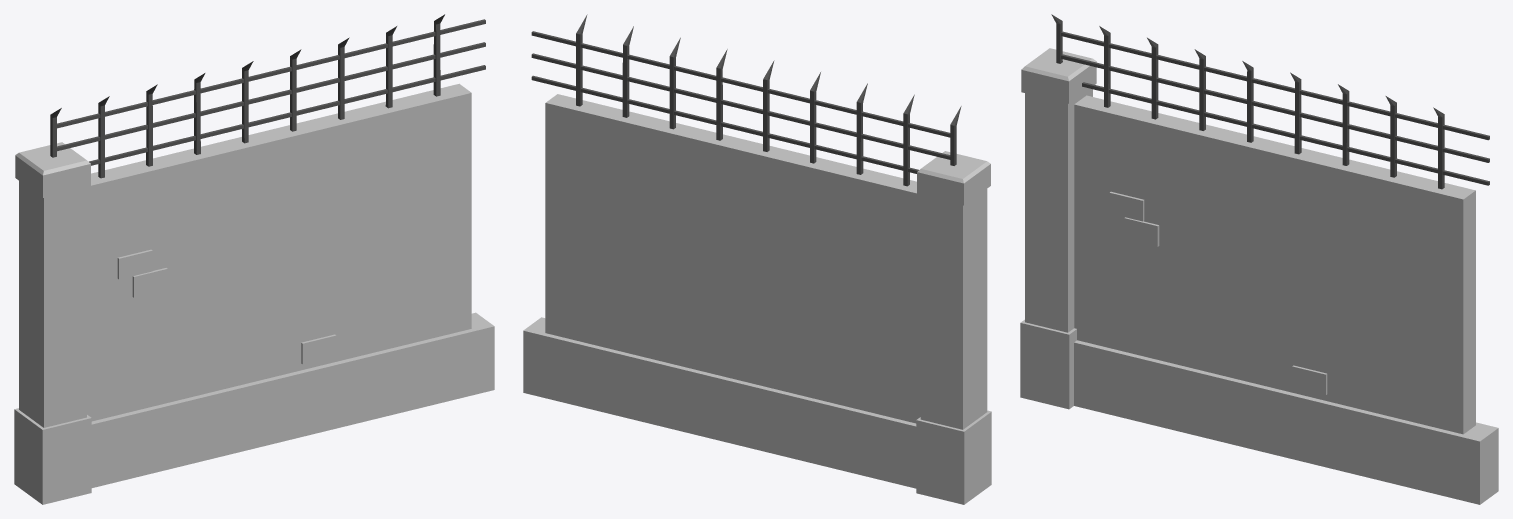
Rendered from Fence_01.fbx.
3 renders of one model, left to right at view 1: azimuth 30°, elevation 25°; view 2: azimuth 150°, elevation 25°; view 3: azimuth 330°, elevation 25°, orthographic. The views are drawn at different scales.
Parts seen in each view (by area): view 1: Fence_01; view 2: Fence_01; view 3: Fence_01.
Boxes of the visible parts, bbox=[...] form: Fence_01: bbox=[14, 14, 494, 504]; Fence_01: bbox=[523, 14, 991, 504]; Fence_01: bbox=[1020, 14, 1498, 504].
Size of the model in its own units: 423 by 342 by 45.43.
